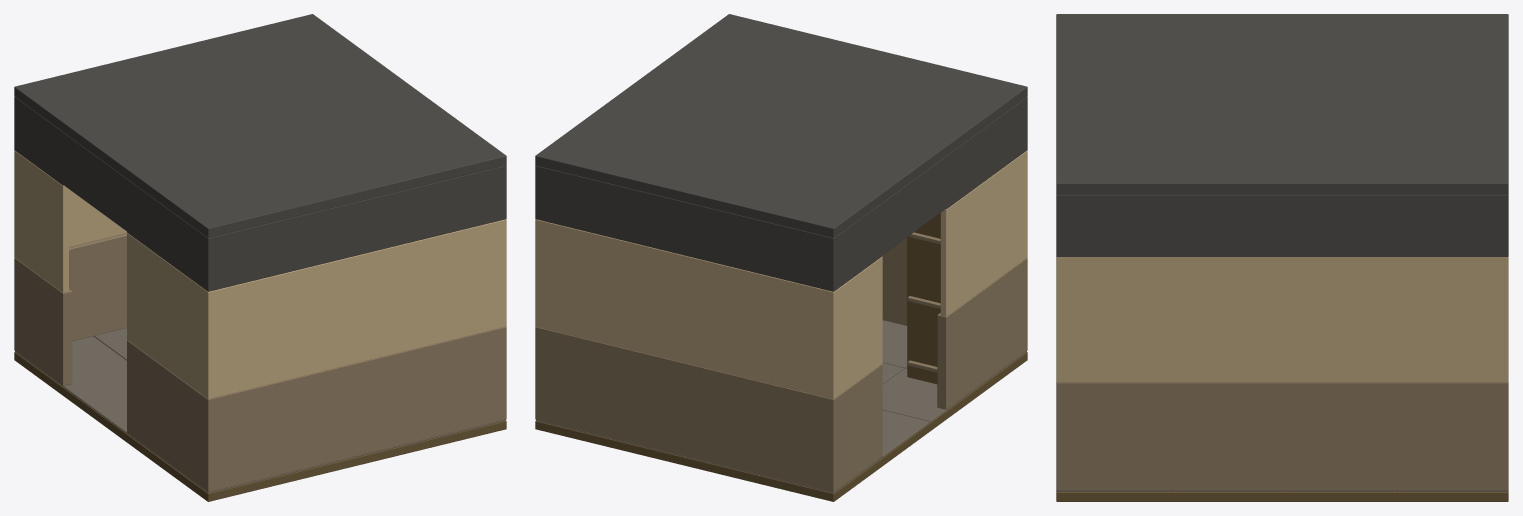
File: gen-holds.glb
The picture shows the model from 3 angles, left to right: view 1: azimuth 30°, elevation 25°; view 2: azimuth 150°, elevation 25°; view 3: azimuth 270°, elevation 25°; orthographic projection. The views are drawn at different scales.
Parts seen in each view (by area): view 1: THE HOLDS; view 2: THE HOLDS; view 3: THE HOLDS.
Part boxes in pixels (x1,y1,x2,y2): THE HOLDS: [14, 14, 506, 501]; THE HOLDS: [535, 14, 1027, 501]; THE HOLDS: [1056, 14, 1508, 501].
Bounding box in the file's own units: 3.2 × 2.8 × 3.6.
